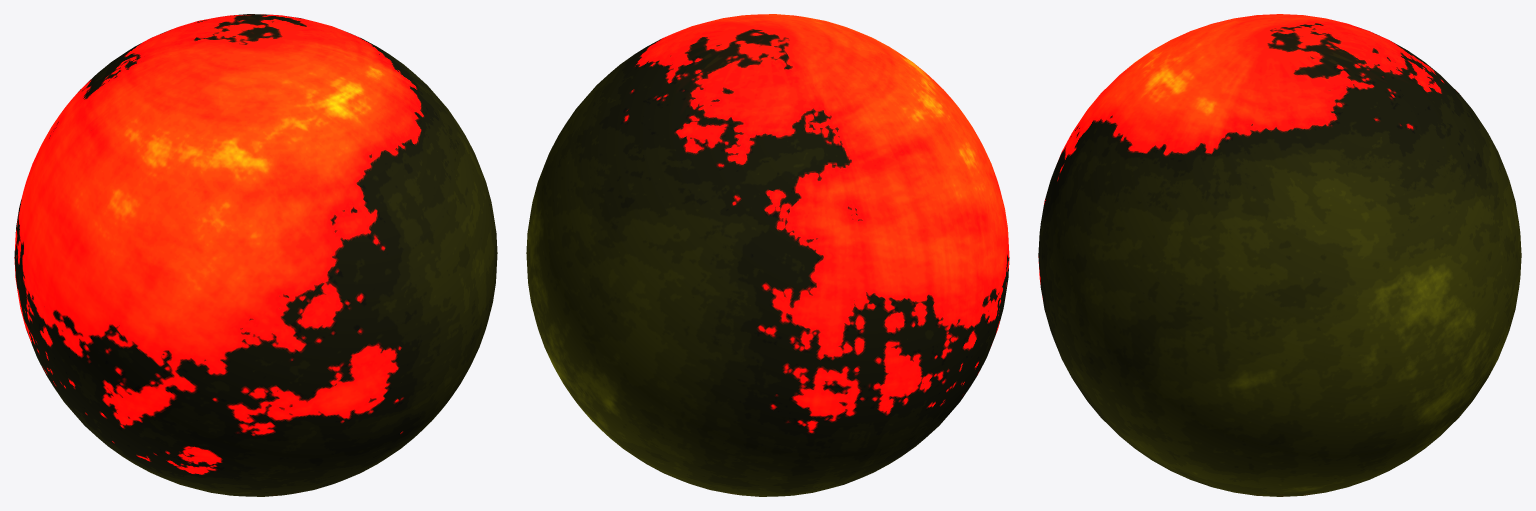
The picture shows the model from 3 angles, left to right: view 1: azimuth 30°, elevation 25°; view 2: azimuth 150°, elevation 25°; view 3: azimuth 270°, elevation 25°; orthographic projection.
Parts seen in each view (by area): view 1: Nepirus_Nepirus_0; view 2: Nepirus_Nepirus_0; view 3: Nepirus_Nepirus_0.
Boxes of the visible parts, x1=… form: Nepirus_Nepirus_0: x1=14, y1=14, x2=497, y2=496; Nepirus_Nepirus_0: x1=526, y1=14, x2=1009, y2=496; Nepirus_Nepirus_0: x1=1038, y1=14, x2=1521, y2=496.
Bounding box in the file's own units: 1.74 × 1.74 × 1.74.
Materials: 1 (1 with a texture image).
